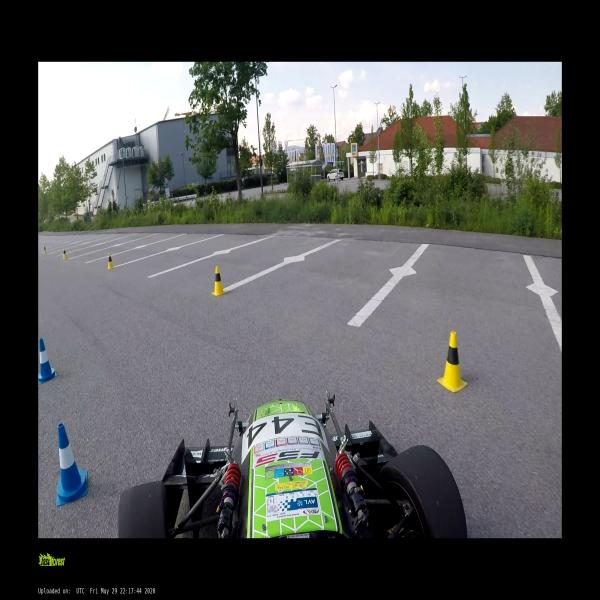blue_cone: (56, 422, 87, 507), (38, 338, 57, 385)
yellow_cone: (436, 331, 468, 394), (211, 266, 226, 297), (107, 252, 114, 270), (63, 249, 67, 259), (43, 247, 47, 253)
